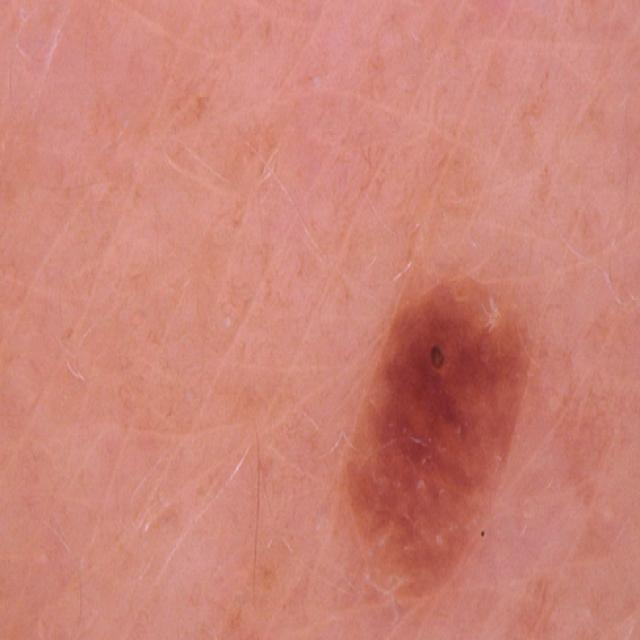Keratosis: (320, 237, 626, 640)
